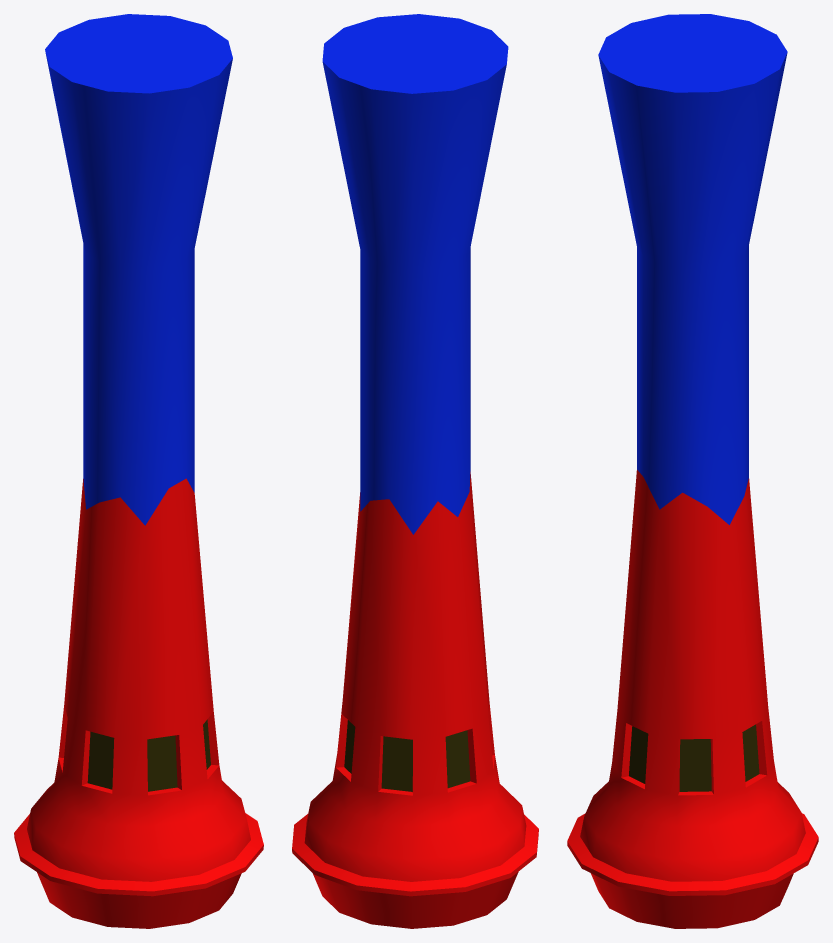
File: body_I.FBX
The picture shows the model from 3 angles, left to right: view 1: azimuth 30°, elevation 25°; view 2: azimuth 150°, elevation 25°; view 3: azimuth 270°, elevation 25°; orthographic projection.
Visible parts, largest first — view 1: pillar_I_bodydown, pillar_I_bodyup, pillar_I_glass; view 2: pillar_I_bodydown, pillar_I_bodyup, pillar_I_glass; view 3: pillar_I_bodydown, pillar_I_bodyup, pillar_I_glass.
Boxes of the visible parts, x1,y1,x2,y2 form: pillar_I_bodydown: [14, 478, 263, 928]; pillar_I_bodyup: [45, 14, 232, 525]; pillar_I_glass: [87, 719, 210, 791]; pillar_I_bodydown: [292, 472, 538, 928]; pillar_I_bodyup: [322, 14, 508, 534]; pillar_I_glass: [344, 720, 470, 791]; pillar_I_bodydown: [567, 470, 818, 928]; pillar_I_bodyup: [598, 14, 787, 524]; pillar_I_glass: [629, 724, 759, 791].
Size of the model in its own units: 10.44 by 38.95 by 10.61.
